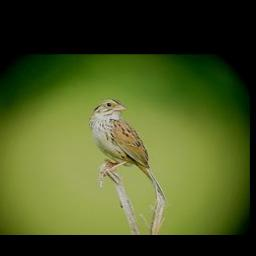Sparrow: (88, 96, 154, 189)
